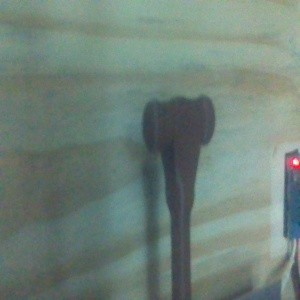palu: (141, 92, 216, 300)
